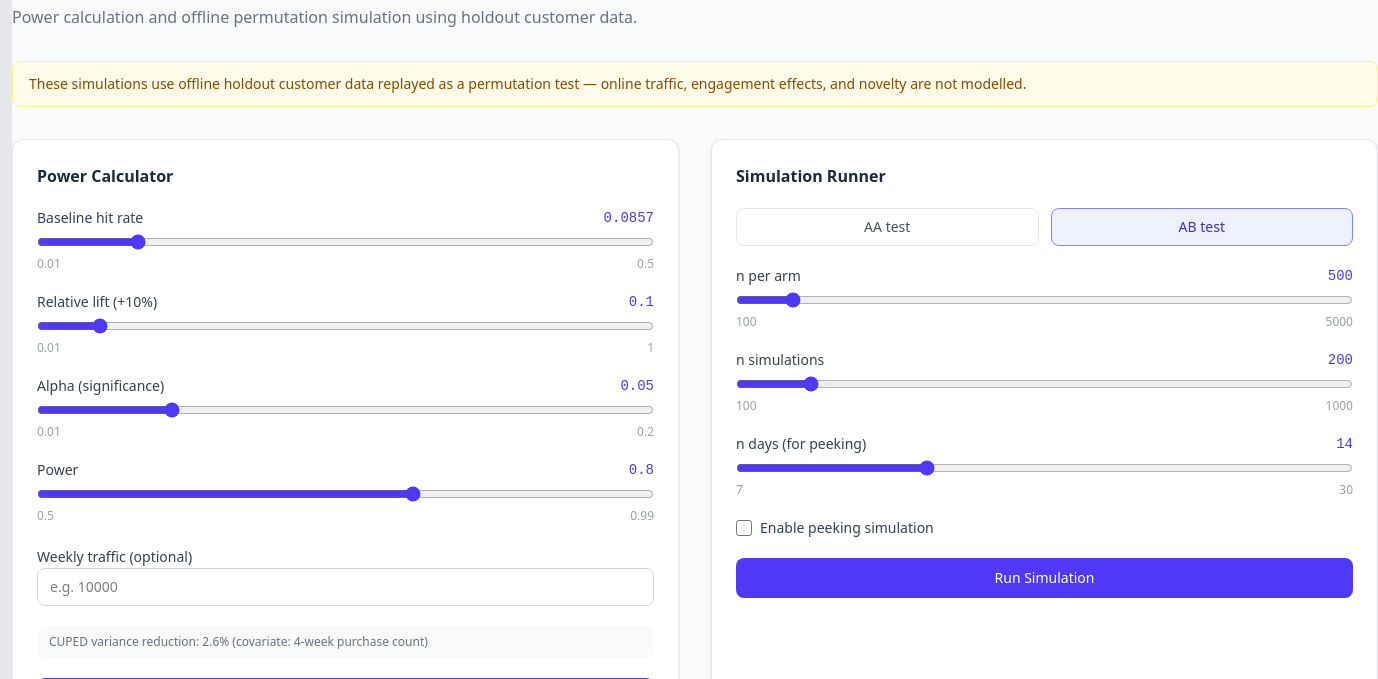
Test: ABSimulator page › renders simulation error state
Click the button "Run Simulation".
click(1044, 578)  # box [736,558,1353,598]
(page scrolled)
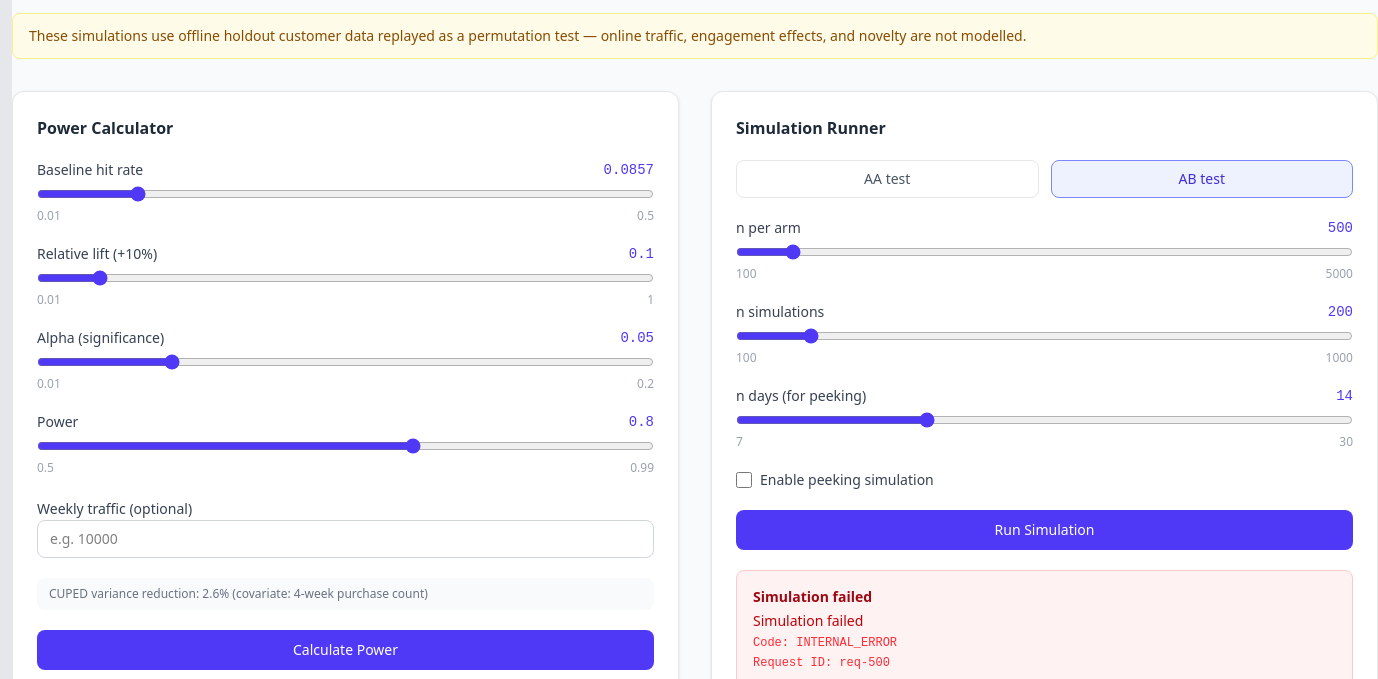
Expected: the 1st text "Simulation failed" is shown, [753,587,872,606]
Expected: the text "Request ID: req-500" is shown, [839,656,890,670]
